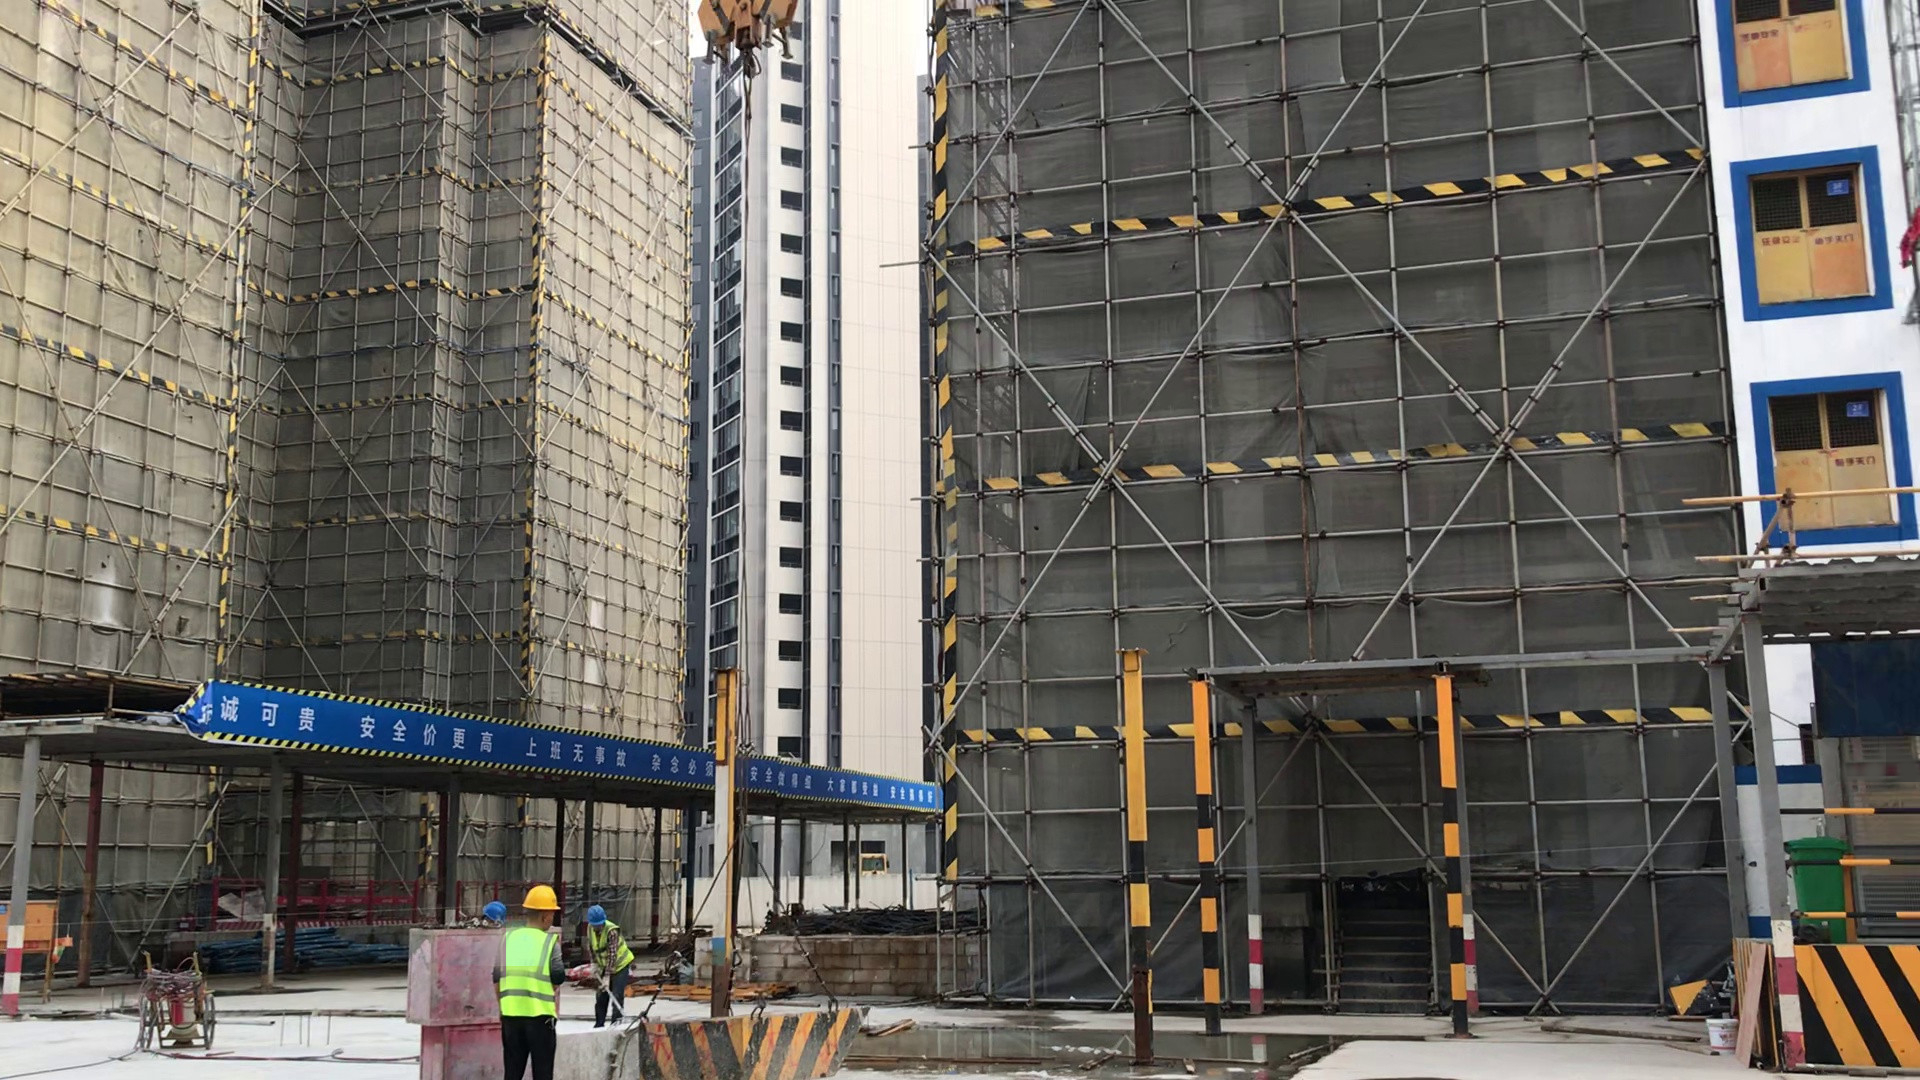fence: (213, 880, 491, 932)
handcart: (138, 943, 216, 1053)
helmet: (522, 883, 560, 911), (483, 901, 507, 924), (588, 905, 606, 925)
hook: (696, 1, 801, 80)
hopper: (646, 1008, 879, 1080), (559, 1024, 650, 1079)
person: (496, 883, 564, 1079), (586, 909, 633, 1027)
slogan: (200, 680, 935, 814)
vest: (497, 929, 561, 1019), (589, 920, 632, 975)
